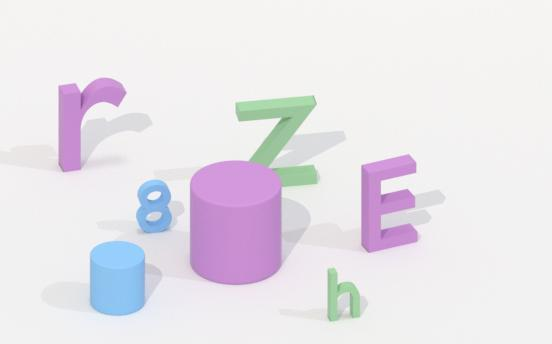chu_khoi: (58, 78, 125, 171), (236, 96, 315, 166), (361, 155, 417, 251), (327, 268, 360, 320)
so_khoi: (136, 180, 171, 232)
tru: (190, 161, 281, 283), (90, 241, 144, 314)
